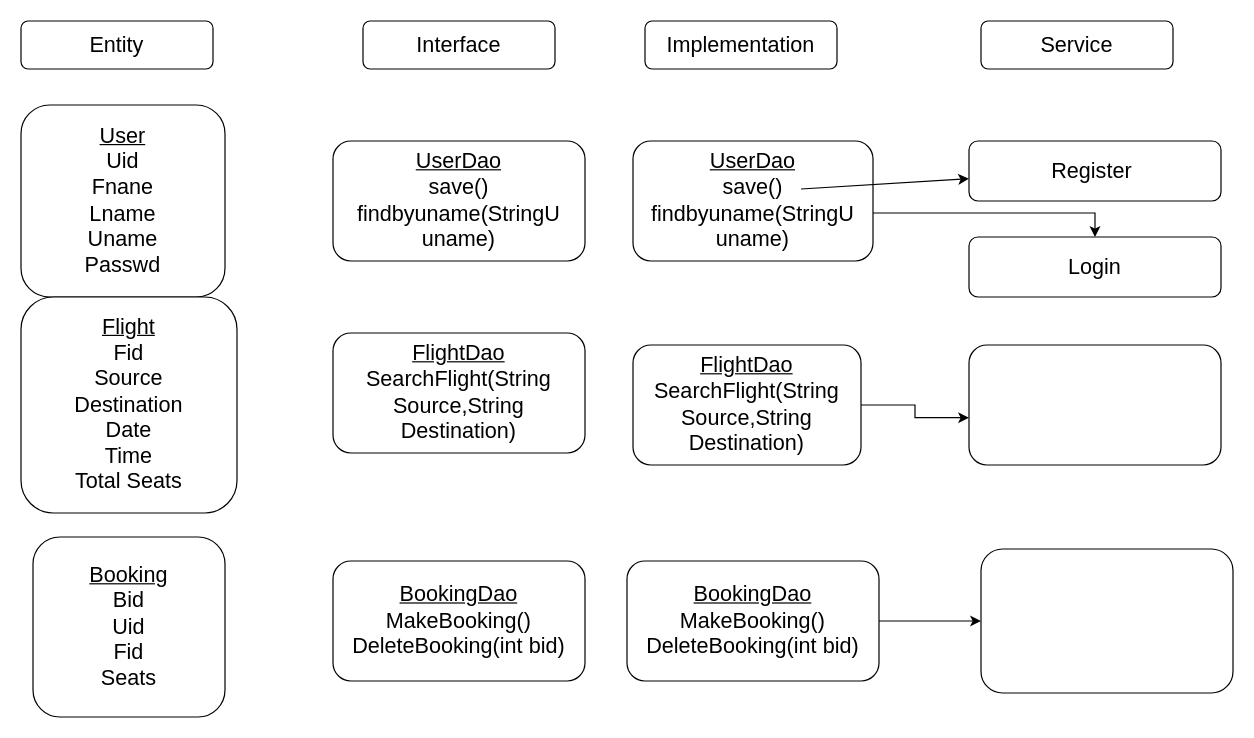
Some shapes in this 1254 by 738 pixel diagram are drawn without their labels. Here are the shapes that lost their labels. From the top down, the centre of each, then its label:
the point at 1094,404: FlightDao SearchFlight
the point at 1106,620: BookingDao MakeBookings ShowBookings Cancel Booking
